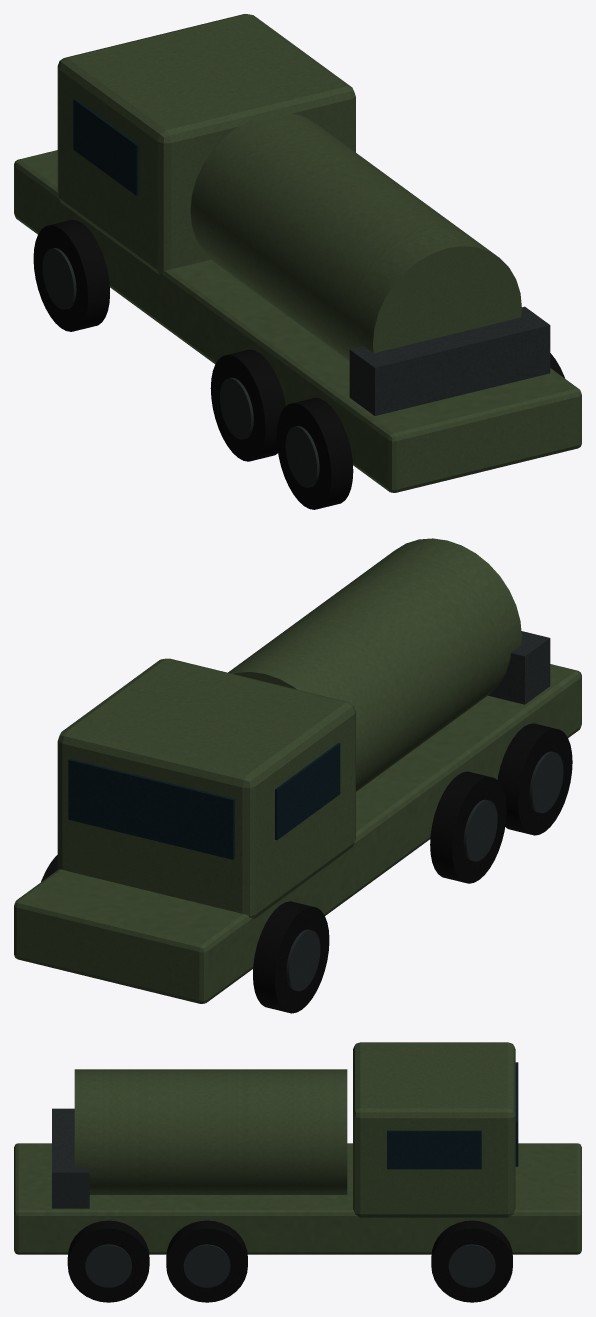
3 views of the same model, one above another, from view 1: azimuth 30°, elevation 25°; view 2: azimuth 150°, elevation 25°; view 3: azimuth 270°, elevation 25° (orthographic). The views are drawn at different scales.
Parts seen in each view (by area): view 1: Hull_MVP olive paint, RunningGear_MVP rubber, Hull_MVP exposed metal, RunningGear_MVP exposed metal, Hull_MVP optical glass; view 2: Hull_MVP olive paint, RunningGear_MVP rubber, Hull_MVP optical glass, RunningGear_MVP exposed metal, Hull_MVP exposed metal; view 3: Hull_MVP olive paint, RunningGear_MVP rubber, RunningGear_MVP exposed metal, Hull_MVP optical glass, Hull_MVP exposed metal.
Boxes of the visible parts, x1,y1,x2,y2 form: Hull_MVP olive paint: [14, 14, 581, 492]; RunningGear_MVP rubber: [33, 219, 564, 509]; Hull_MVP exposed metal: [349, 306, 550, 415]; RunningGear_MVP exposed metal: [42, 248, 319, 487]; Hull_MVP optical glass: [73, 98, 138, 195]; Hull_MVP olive paint: [14, 538, 581, 1003]; RunningGear_MVP rubber: [41, 723, 572, 1013]; Hull_MVP optical glass: [68, 743, 340, 859]; RunningGear_MVP exposed metal: [286, 751, 563, 991]; Hull_MVP exposed metal: [488, 631, 550, 704]; Hull_MVP olive paint: [14, 1042, 581, 1254]; RunningGear_MVP rubber: [67, 1220, 512, 1302]; RunningGear_MVP exposed metal: [85, 1244, 495, 1287]; Hull_MVP optical glass: [387, 1062, 518, 1169]; Hull_MVP exposed metal: [52, 1108, 89, 1208].
Bounding box in the file's own units: 2.81 × 2.67 × 7.5.
4 materials, 4 textured.
